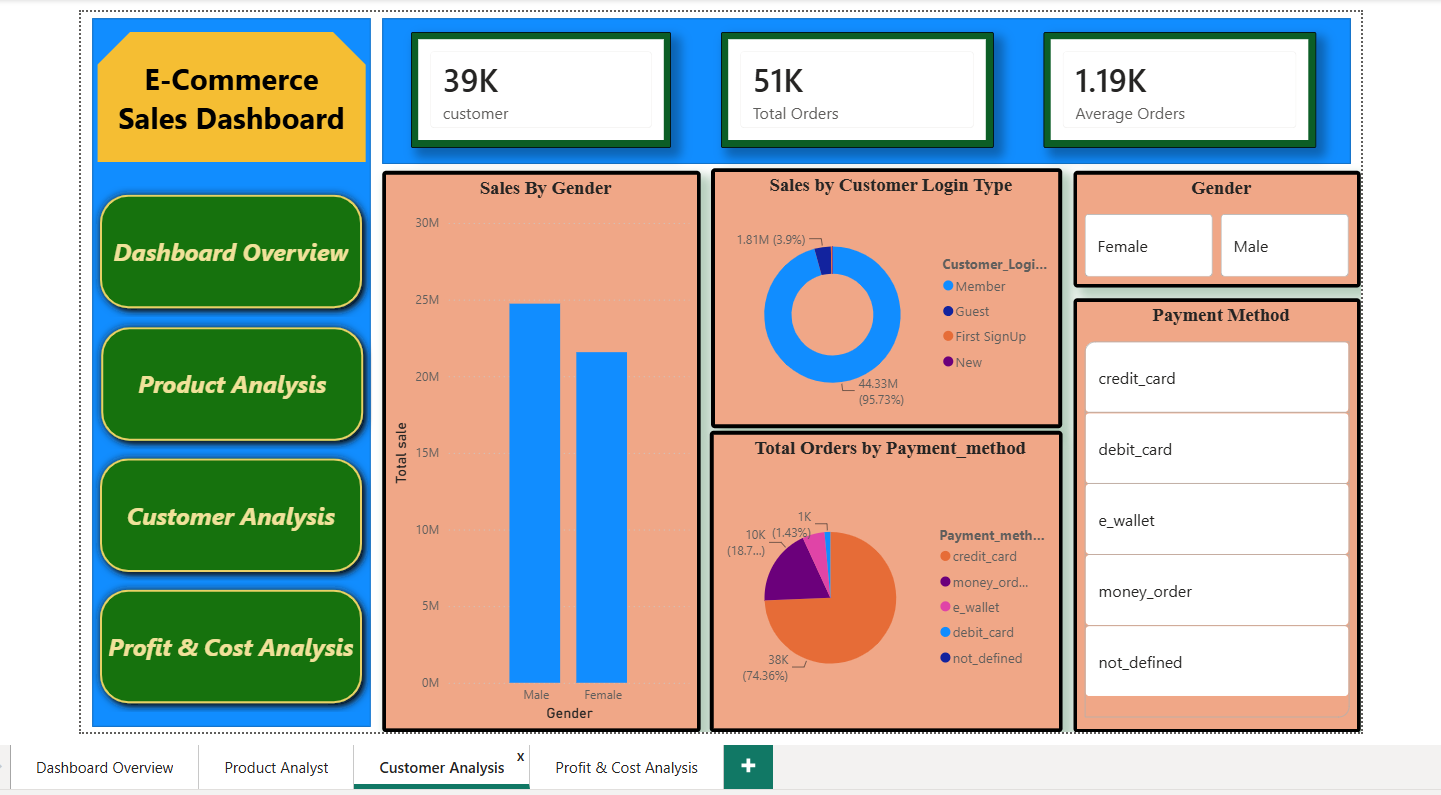

Layout of this report page (visuals, bound fields, positions):
{"tool":"powerbi","page":{"name":"Customer Analysis","canvas":[1280,720],"ordinal":2},"visuals":[{"type":"shape","box":[11.4,5.7,278.6,708.6],"z":0},{"type":"shape","box":[10,174.3,280,131.4],"z":1000},{"type":"shape","box":[11.4,305.7,280,131.4],"z":2000},{"type":"shape","box":[10,437.1,280,131.4],"z":3000},{"type":"shape","box":[10,568.6,280,131.4],"z":4000},{"type":"shape","box":[301.4,5.7,968.6,145.7],"z":5000},{"type":"cardVisual","fields":{"Data":["E-commerce Dataset.customer"]},"box":[330,20,260,115.7],"z":6000},{"type":"cardVisual","fields":{"Data":["E-commerce Dataset.Total Orders"]},"box":[640,20,272.9,115.7],"z":7000},{"type":"cardVisual","fields":{"Data":["E-commerce Dataset.Average Orders"]},"box":[962.9,20,272.9,115.7],"z":8000},{"type":"clusteredColumnChart","title":"Sales By Gender","fields":{"Category":["E-commerce Dataset.Gender"],"Y":["E-commerce Dataset.Total sale"]},"box":[301.4,158.6,318.6,561.4],"z":10000},{"type":"donutChart","title":"Sales by Customer Login Type","fields":{"Category":["E-commerce Dataset.Customer_Login_type"],"Y":["E-commerce Dataset.Total sale"]},"box":[630,155.7,351.4,260],"z":11000},{"type":"pieChart","fields":{"Category":["E-commerce Dataset.Payment_method"],"Y":["E-commerce Dataset.Total Orders"]},"box":[628.6,418.6,352.9,301.4],"z":12000},{"type":"advancedSlicerVisual","title":"Gender","fields":{"Values":["E-commerce Dataset.Gender"],"Label":["Sum(E-commerce Dataset.Total Amount)"]},"box":[992.9,158.6,287.1,117.1],"z":14000},{"type":"advancedSlicerVisual","title":"Payment Method","fields":{"Values":["E-commerce Dataset.Payment_method"],"Label":["Sum(E-commerce Dataset.Total Amount)"]},"box":[992.9,285.7,287.1,434.3],"z":15000},{"type":"shape","box":[15.7,20,268.6,130],"z":16000},{"type":"actionButton","box":[28.6,325.7,241.4,91.4],"z":17000},{"type":"actionButton","box":[30,327.1,241.4,91.4],"z":18000},{"type":"actionButton","box":[31.4,194.3,241.4,91.4],"z":19000},{"type":"actionButton","box":[31.4,457.1,241.4,91.4],"z":20000},{"type":"actionButton","box":[31.4,588.6,241.4,91.4],"z":21000}]}

Visuals, with their boxes on the page's 1280x720 design canvas (x1, y1, x2, y2). These are canvas units, not pixel positions in the 1441x795 screenshot, which may show the page scaled, cropped or inside an application window:
shape: locate(11, 6, 290, 714)
shape: locate(10, 174, 290, 306)
shape: locate(11, 306, 291, 437)
shape: locate(10, 437, 290, 568)
shape: locate(10, 569, 290, 700)
shape: locate(301, 6, 1270, 151)
cardVisual - E-commerce Dataset.customer: locate(330, 20, 590, 136)
cardVisual - E-commerce Dataset.Total Orders: locate(640, 20, 913, 136)
cardVisual - E-commerce Dataset.Average Orders: locate(963, 20, 1236, 136)
"Sales By Gender" clusteredColumnChart: locate(301, 159, 620, 720)
"Sales by Customer Login Type" donutChart: locate(630, 156, 981, 416)
pieChart - E-commerce Dataset.Payment_method x E-commerce Dataset.Total Orders: locate(629, 419, 982, 720)
"Gender" advancedSlicerVisual: locate(993, 159, 1280, 276)
"Payment Method" advancedSlicerVisual: locate(993, 286, 1280, 720)
shape: locate(16, 20, 284, 150)
actionButton: locate(29, 326, 270, 417)
actionButton: locate(30, 327, 271, 418)
actionButton: locate(31, 194, 273, 286)
actionButton: locate(31, 457, 273, 548)
actionButton: locate(31, 589, 273, 680)
